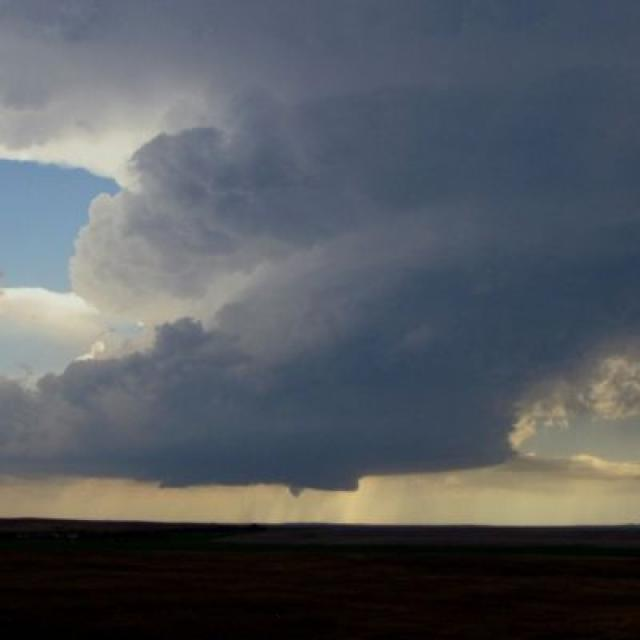cumulonimbus: (5, 2, 640, 520)
